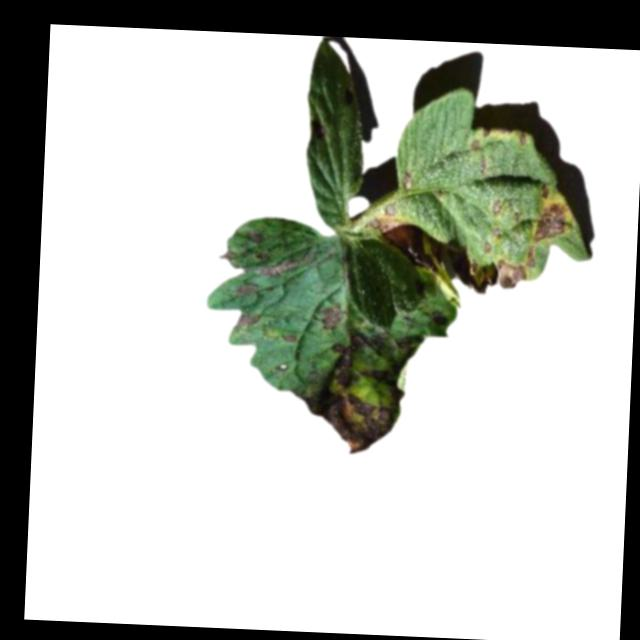Early_blight: (290, 336, 413, 461), (439, 241, 529, 295), (362, 203, 416, 258), (250, 251, 314, 280), (530, 203, 569, 248), (322, 305, 345, 336), (232, 312, 259, 333), (235, 282, 257, 301), (399, 170, 414, 191), (525, 246, 537, 271), (247, 231, 264, 246), (282, 333, 299, 347), (515, 131, 528, 149), (469, 141, 483, 155), (481, 127, 495, 139)
